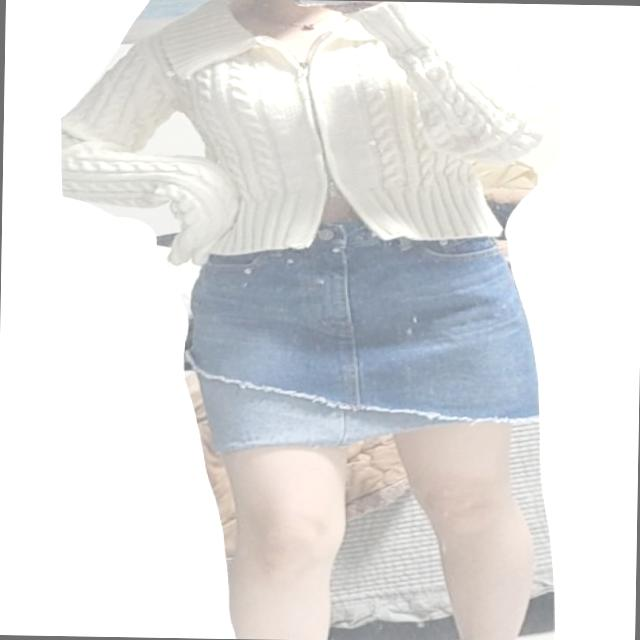cardigan: (58, 0, 550, 264)
skirt: (186, 222, 541, 456)
